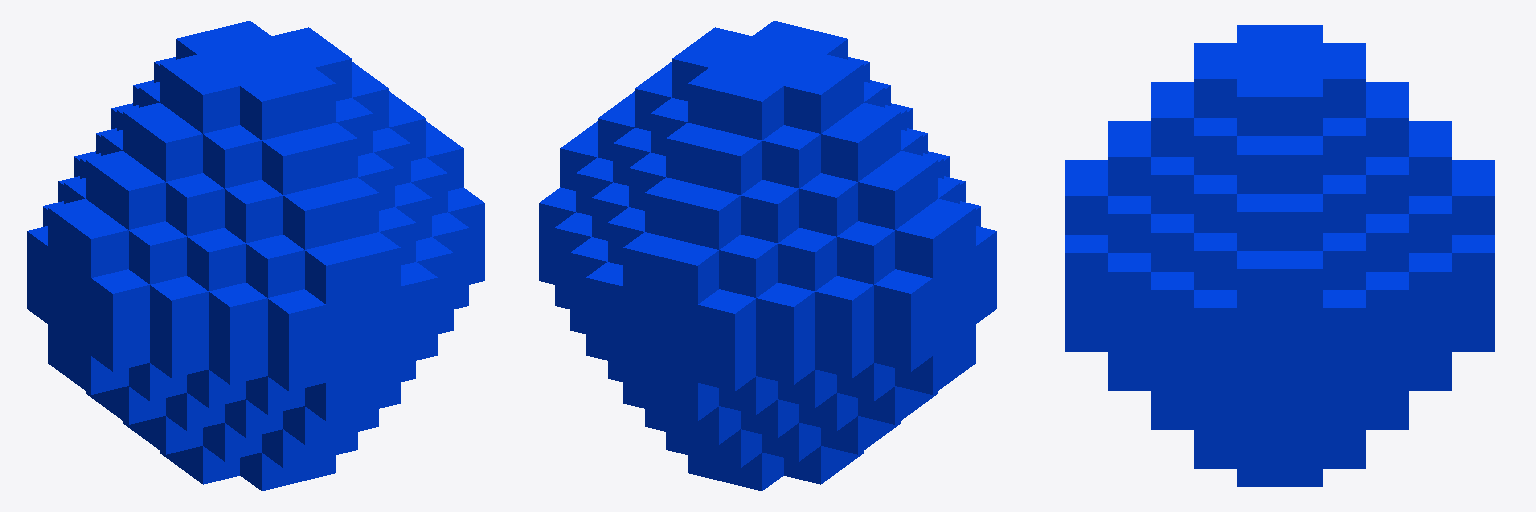
The picture shows the model from 3 angles: view 1: azimuth 30°, elevation 25°; view 2: azimuth 150°, elevation 25°; view 3: azimuth 270°, elevation 25°; orthographic projection.
Parts seen in each view (by area): view 1: object 1; view 2: object 1; view 3: object 1.
Part boxes in pixels (x1,y1,x2,y2): object 1: (27, 21, 484, 490); object 1: (539, 21, 996, 490); object 1: (1065, 25, 1494, 486).
Bounding box in the file's own units: 1 × 1 × 1.
Materials: 1 (1 with a texture image).